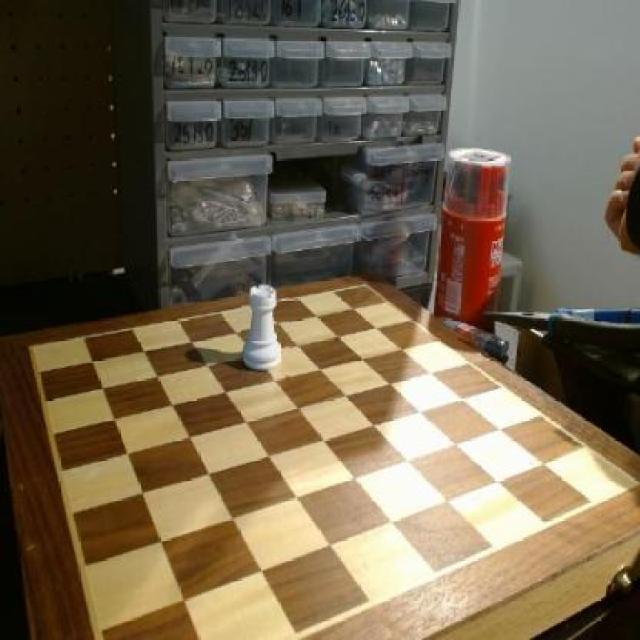white-queen: (242, 278, 290, 378)
